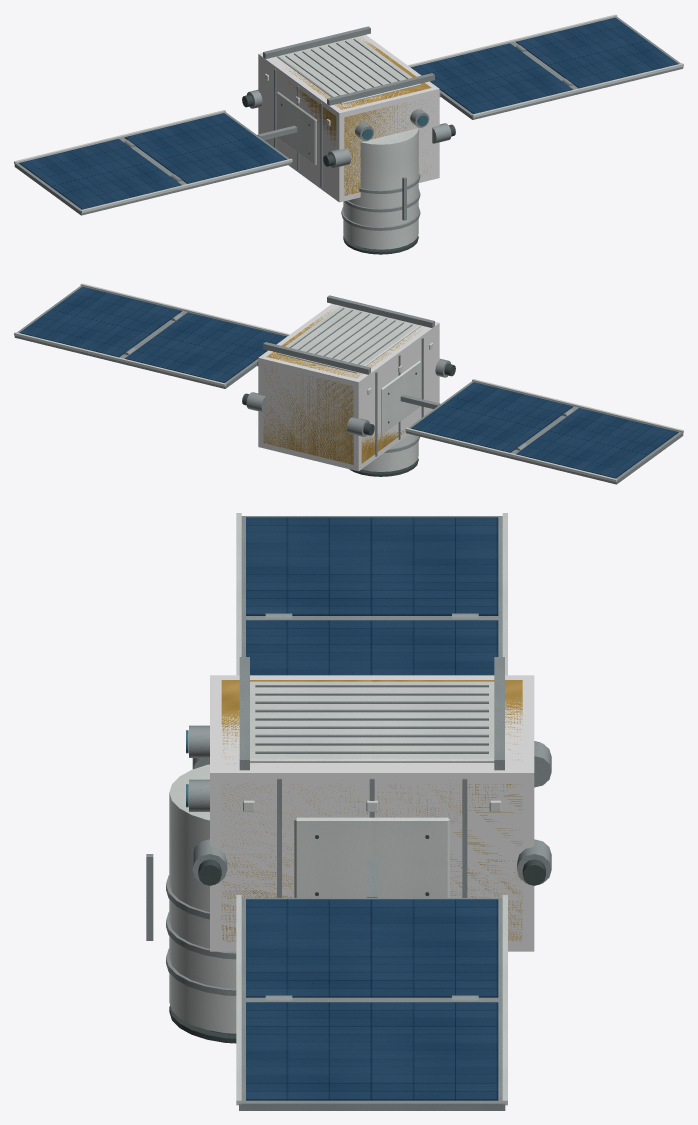
Rendered from OpticalSatellite.fbx.
3 renders of one model, top to bottom at view 1: azimuth 30°, elevation 25°; view 2: azimuth 150°, elevation 25°; view 3: azimuth 270°, elevation 25°, orthographic. The views are drawn at different scales.
Visible parts, largest first — view 1: LOD0, COL_Static; view 2: LOD0, COL_Static; view 3: LOD0, COL_Static.
Boxes of the visible parts, x1,y1,x2,y2 form: LOD0: (14, 14, 683, 254); COL_Static: (258, 35, 439, 202); LOD0: (14, 283, 683, 484); COL_Static: (258, 304, 439, 471); LOD0: (146, 513, 551, 1110); COL_Static: (210, 675, 534, 951).
Size of what is drawn, in the model's own units: 1200 by 289 by 350.
